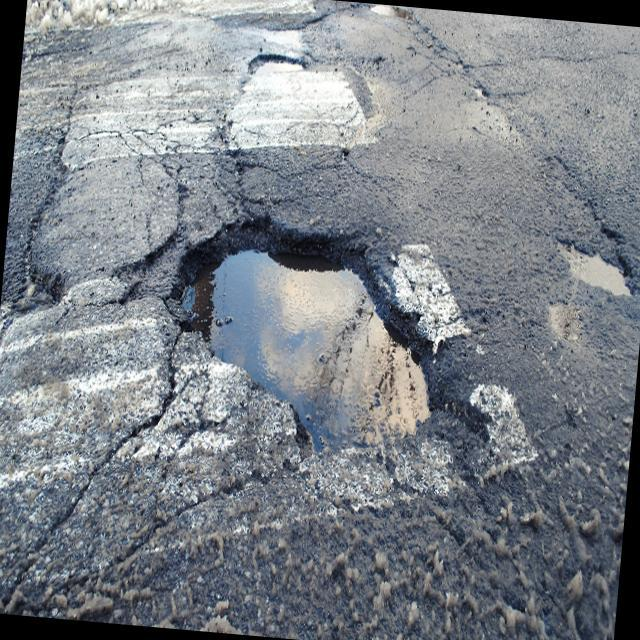Pothole: (85, 160, 522, 534), (200, 25, 412, 194), (2, 179, 99, 386)
